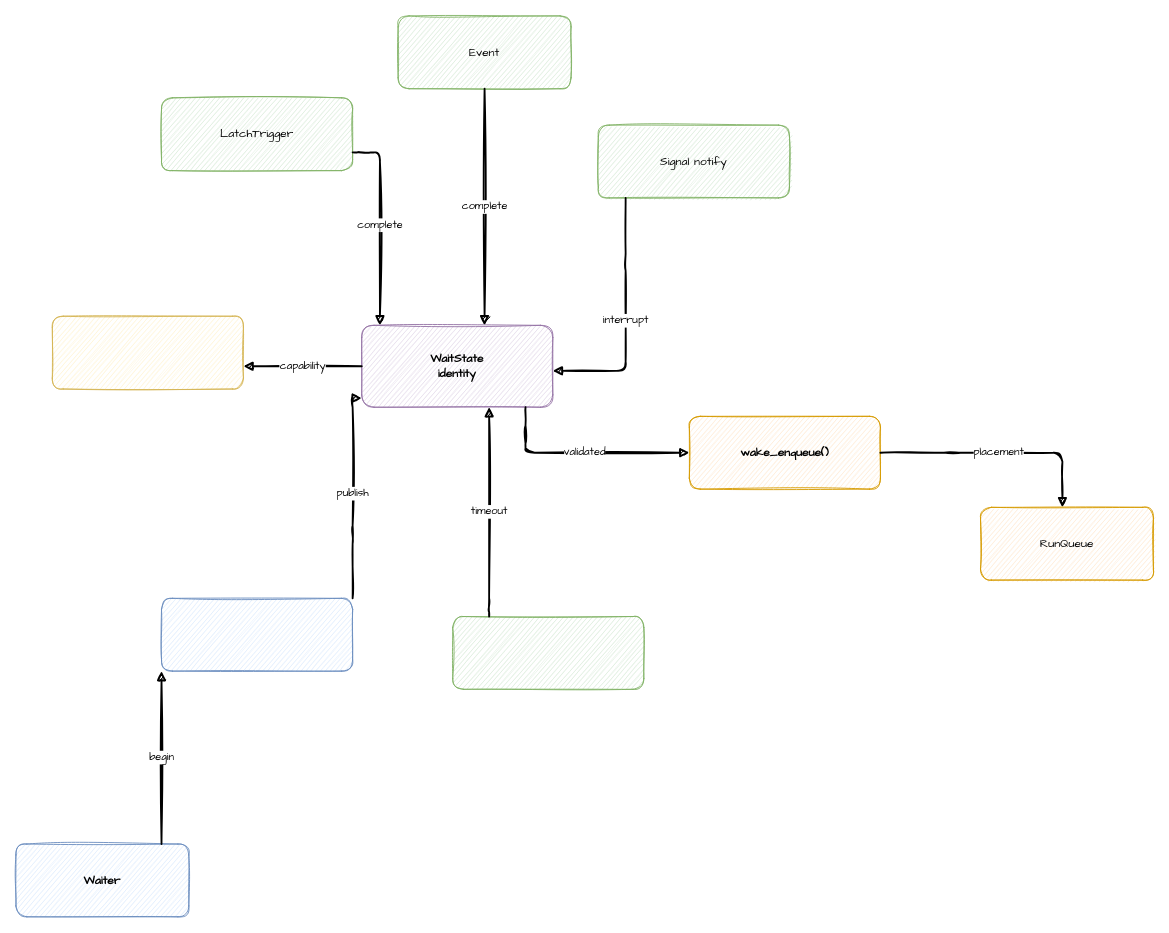
Some shapes in this 1169 by 933 pixel diagram are drawn without their labels. Here are the shapes that lost their labels. From the top down, the centre of each, then its label:
At pixel 147 352: "WakeToken".
At pixel 257 634: "ActiveWait".
At pixel 548 652: "Timer timeout".
